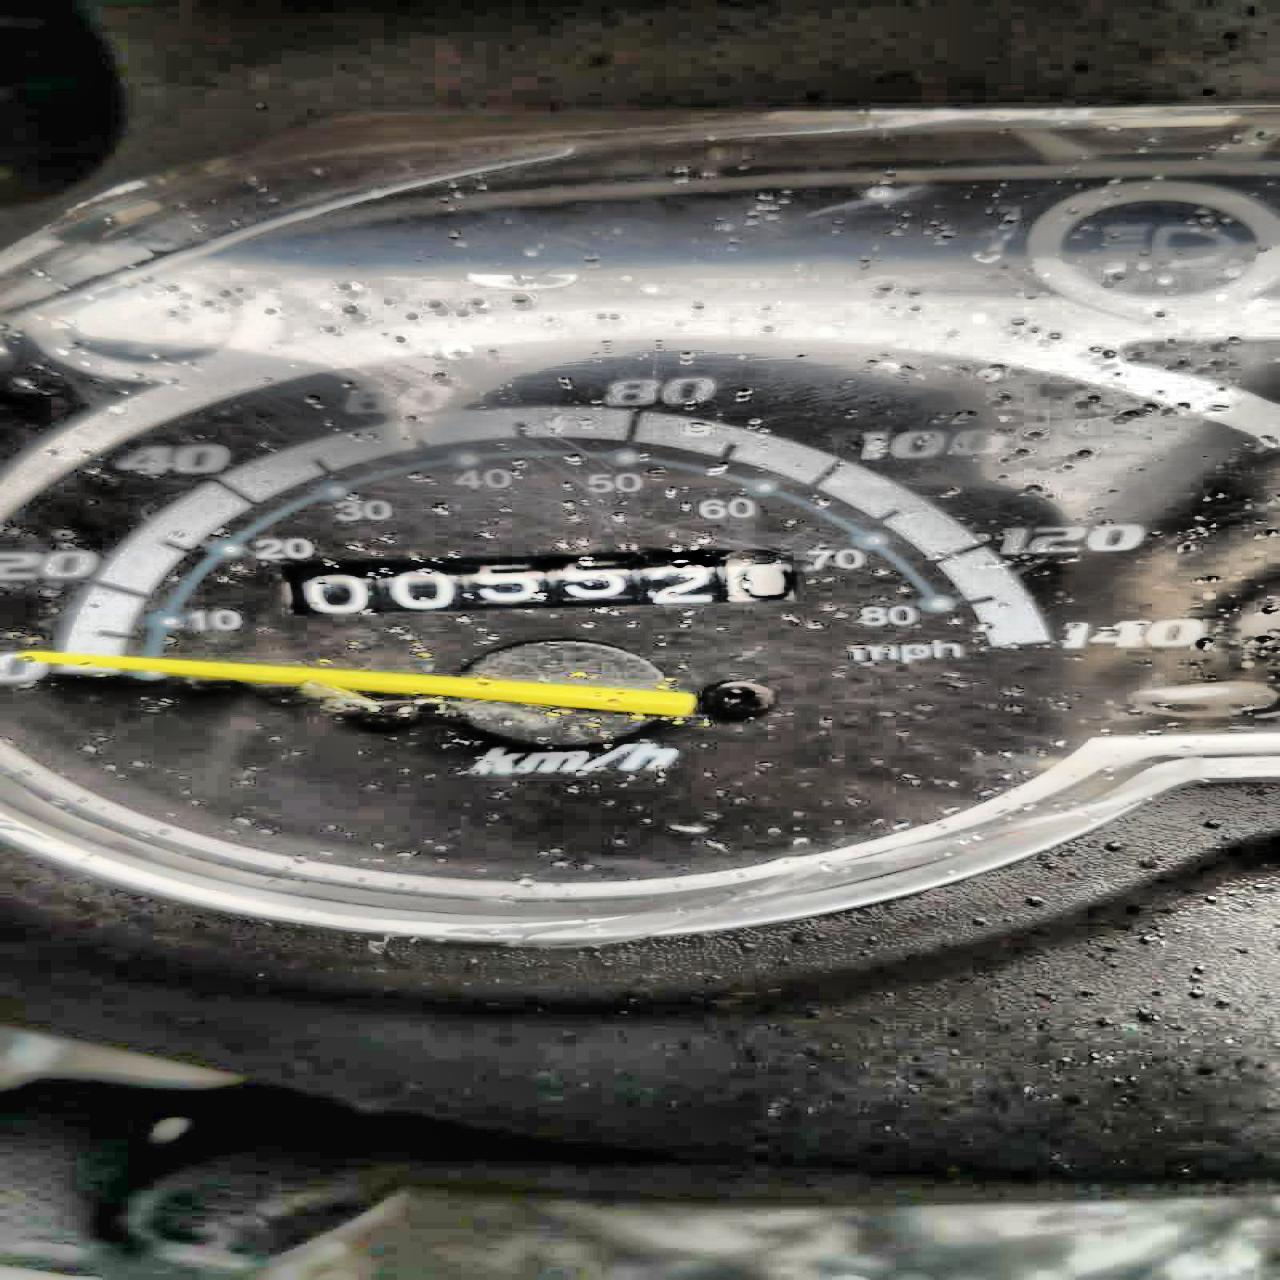0: (390, 567, 454, 609), (304, 573, 368, 613), (736, 560, 794, 600)
2: (648, 562, 712, 602)
5: (560, 559, 626, 597), (473, 562, 538, 600)
odometer: (278, 545, 800, 617)
